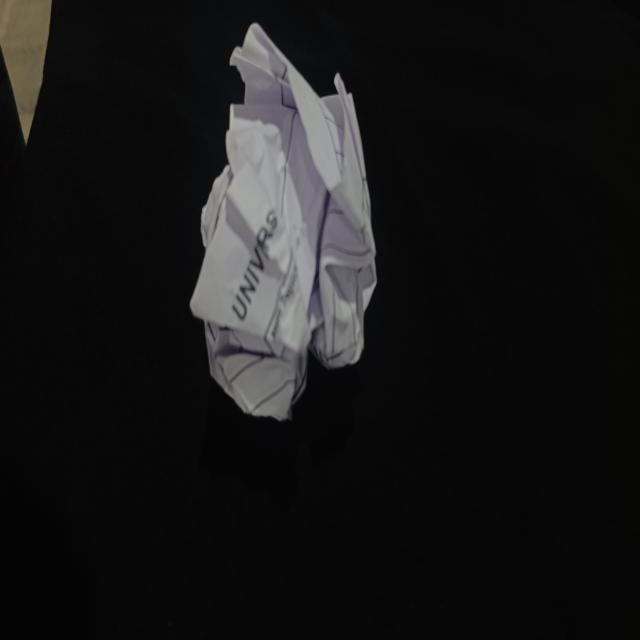PaperBall: (192, 24, 376, 416), (0, 0, 55, 146)
